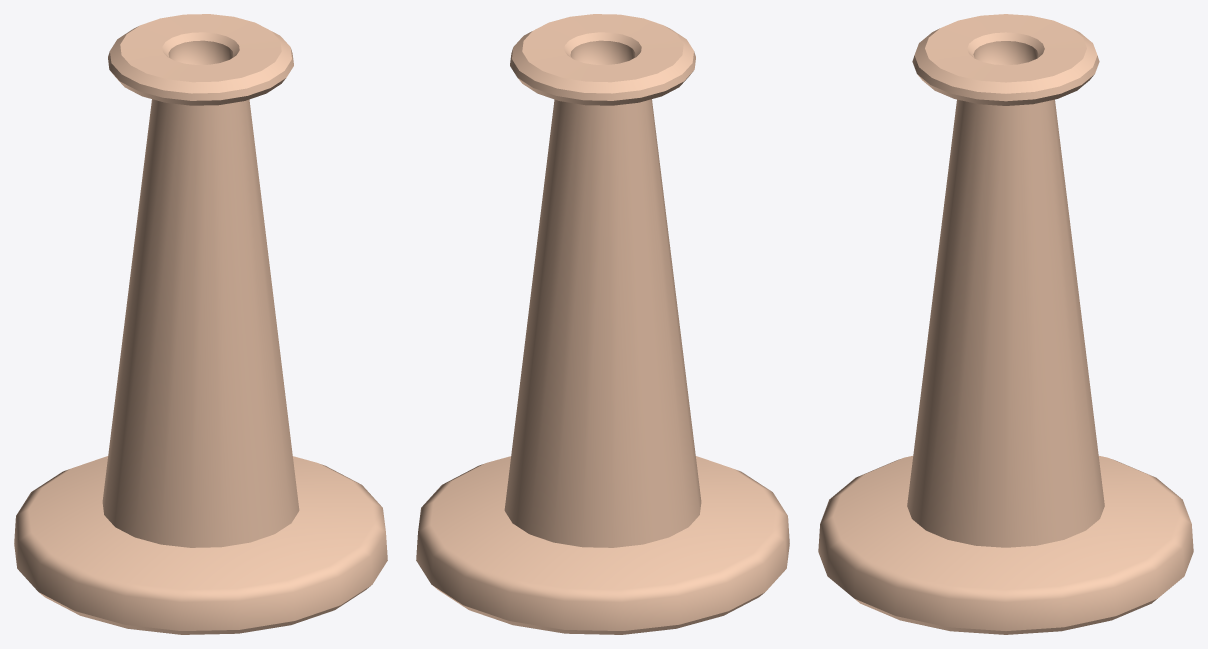
The model's file is bobbin.fbx.
3 renders of one model, left to right at view 1: azimuth 30°, elevation 25°; view 2: azimuth 150°, elevation 25°; view 3: azimuth 270°, elevation 25°, orthographic.
Visible parts, largest first — view 1: Bobbin; view 2: Bobbin; view 3: Bobbin.
Part boxes in pixels (x1,y1,x2,y2): Bobbin: [14, 14, 387, 634]; Bobbin: [416, 14, 789, 634]; Bobbin: [818, 14, 1193, 634].
Bounding box in the file's own units: 11.19 × 16.79 × 11.19.
